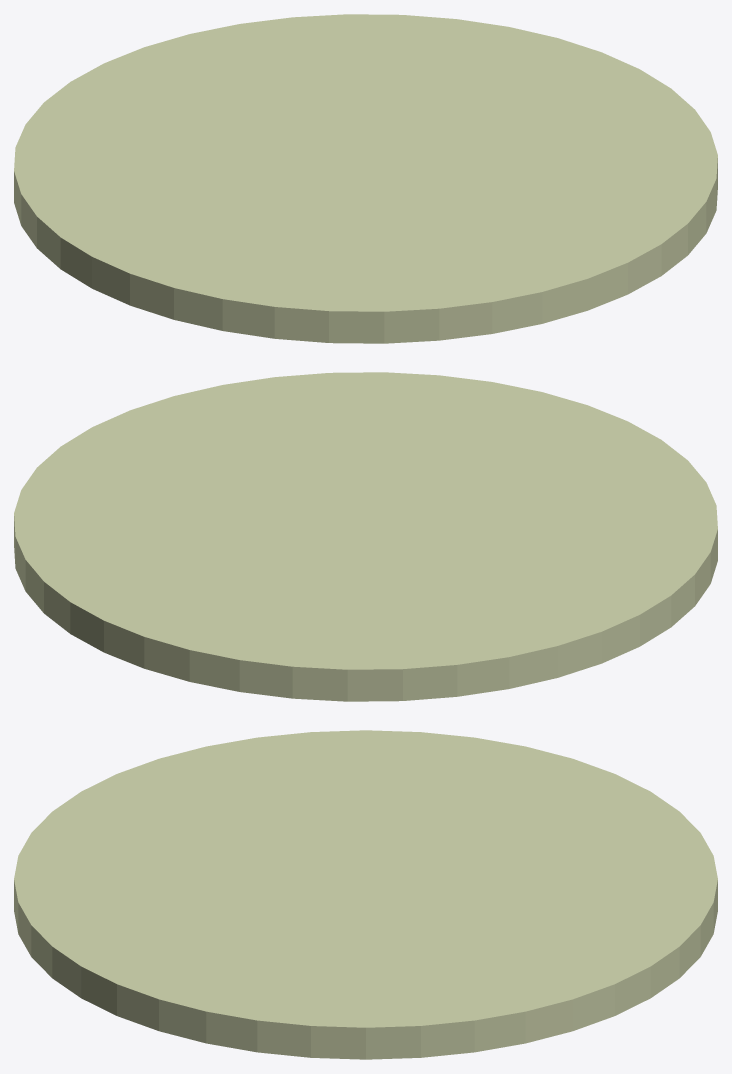
Rendered from chao-vale-dos-dinos.glb.
3 views of the same model, one above another, from view 1: azimuth 30°, elevation 25°; view 2: azimuth 150°, elevation 25°; view 3: azimuth 270°, elevation 25° (orthographic).
Visible parts, largest first — view 1: chao-vale-dos-dinos; view 2: chao-vale-dos-dinos; view 3: chao-vale-dos-dinos.
Boxes of the visible parts, x1,y1,x2,y2 form: chao-vale-dos-dinos: (14, 14, 717, 343); chao-vale-dos-dinos: (14, 372, 717, 701); chao-vale-dos-dinos: (14, 730, 717, 1059).
Size of the model in its own units: 2 by 0.1 by 2.
